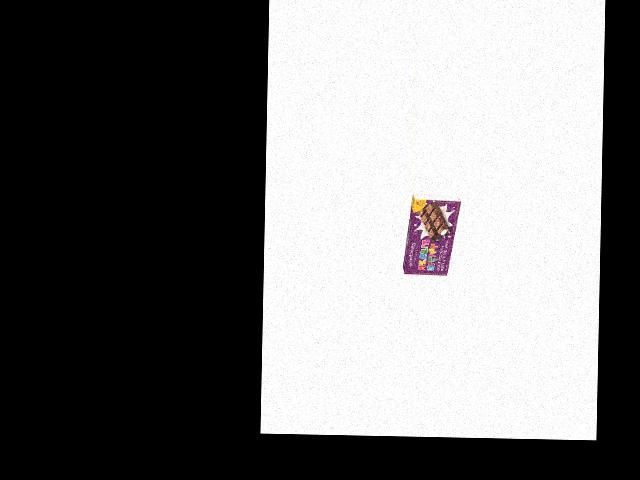chocolate: (402, 193, 457, 281)
